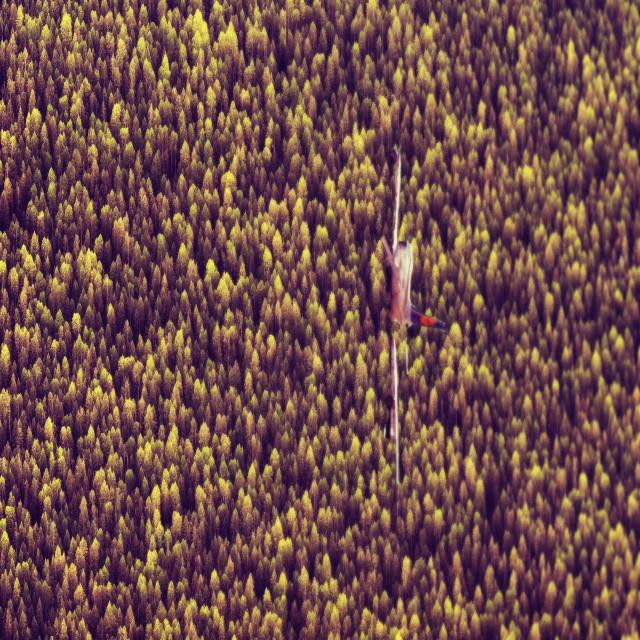airplane: (380, 143, 446, 485)
